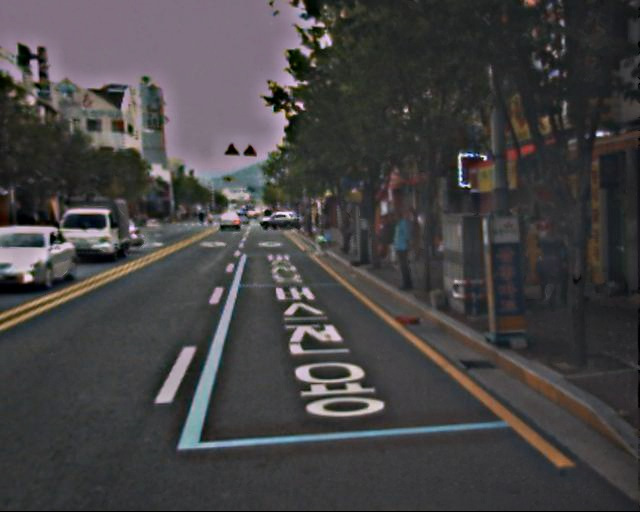person: (527, 219, 562, 305), (384, 209, 418, 293)
